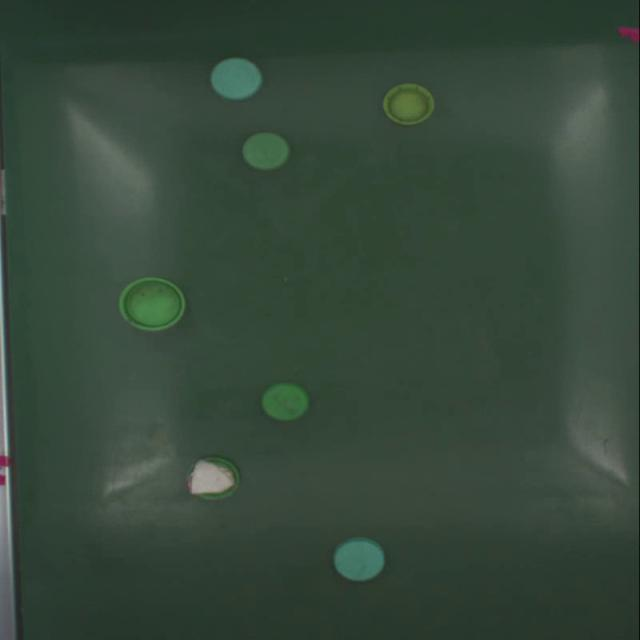others: (118, 278, 186, 330), (209, 58, 263, 101), (332, 537, 386, 580), (382, 84, 435, 125), (187, 458, 240, 498), (260, 384, 310, 421), (242, 134, 291, 170)
